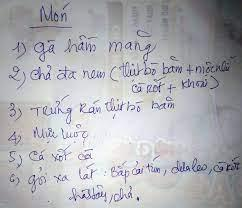text: (9, 155, 241, 194), (8, 55, 237, 90), (8, 93, 176, 125), (11, 28, 157, 64), (8, 143, 94, 169), (7, 122, 89, 147), (131, 73, 220, 95), (68, 184, 141, 204), (39, 0, 71, 24)
